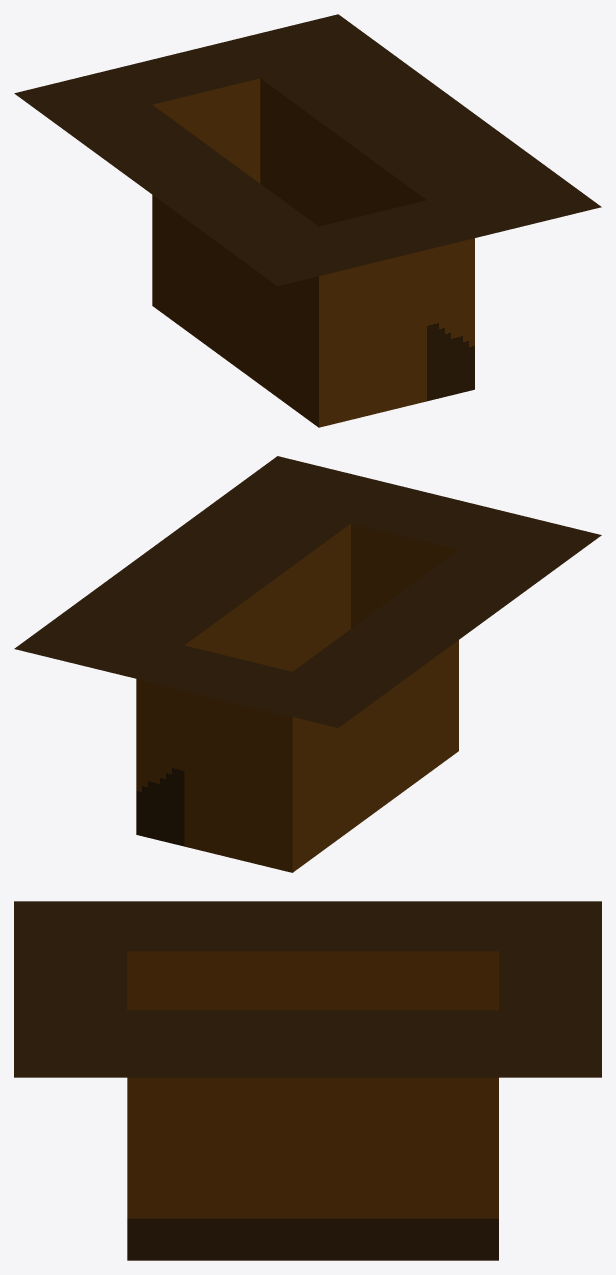
3 views of the same model, one above another, from view 1: azimuth 30°, elevation 25°; view 2: azimuth 150°, elevation 25°; view 3: azimuth 270°, elevation 25° (orthographic). The views are drawn at different scales.
Visible parts, largest first — view 1: hole, ground; view 2: hole, ground; view 3: hole, ground.
Part boxes in pixels (x1=…): hole: x1=152, y1=66, x2=474, y2=427; ground: x1=14, y1=14, x2=601, y2=286; hole: x1=136, y1=512, x2=458, y2=872; ground: x1=14, y1=456, x2=601, y2=727; hole: x1=127, y1=951, x2=498, y2=1260; ground: x1=14, y1=901, x2=601, y2=1077.
Size of the model in its own units: 3.37 by 2 by 4.75.
Materials: 2 (2 with a texture image).
